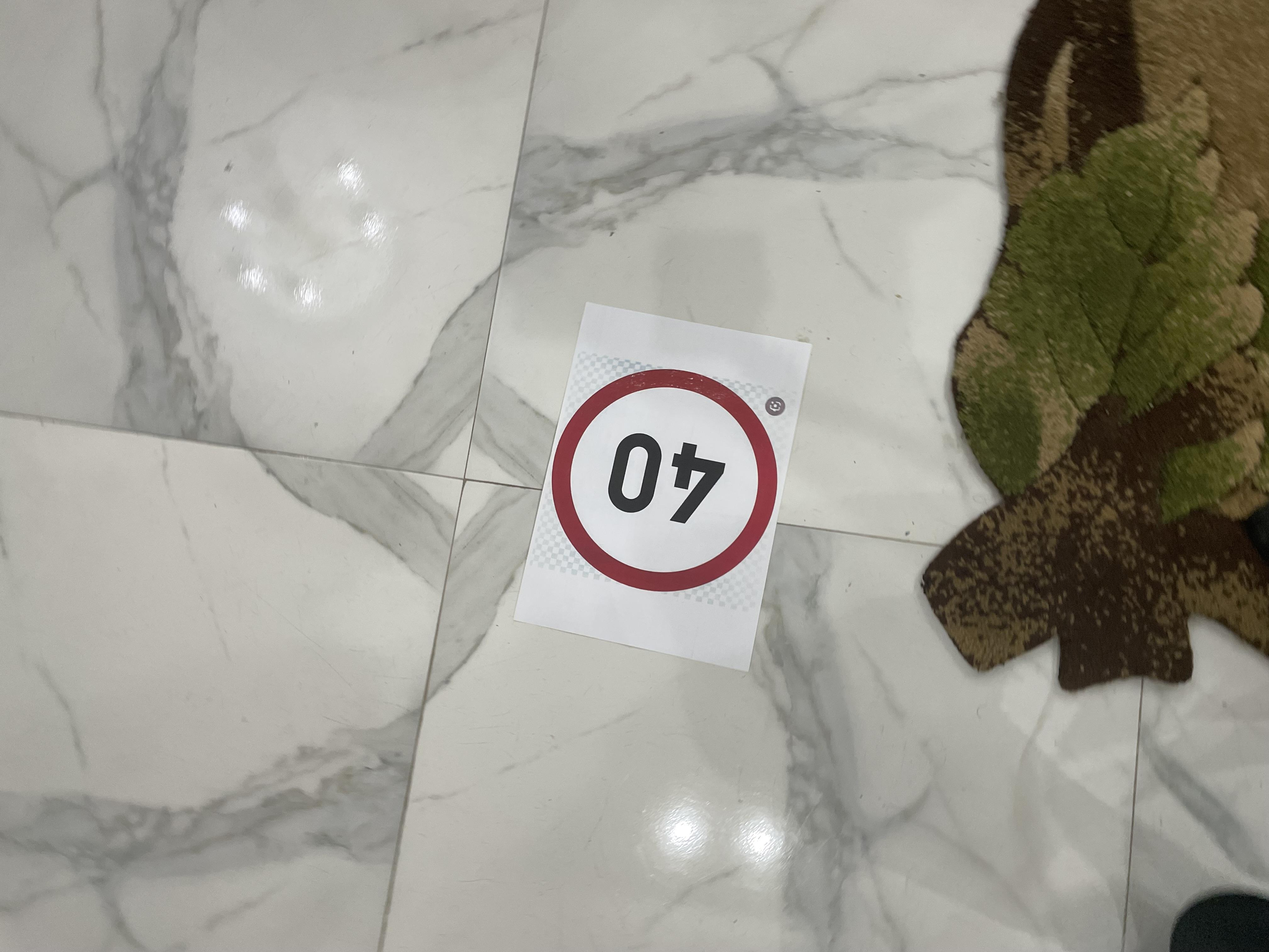40-Speed: (471, 366, 811, 545)
